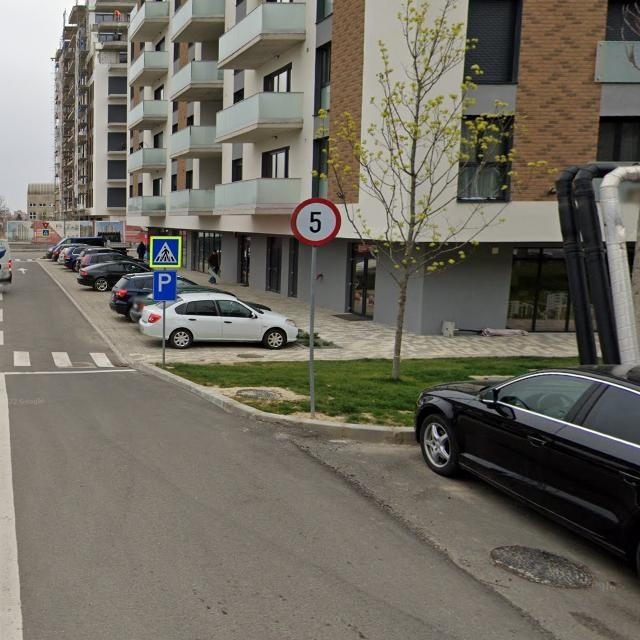info_crosswalk: (149, 235, 181, 268)
